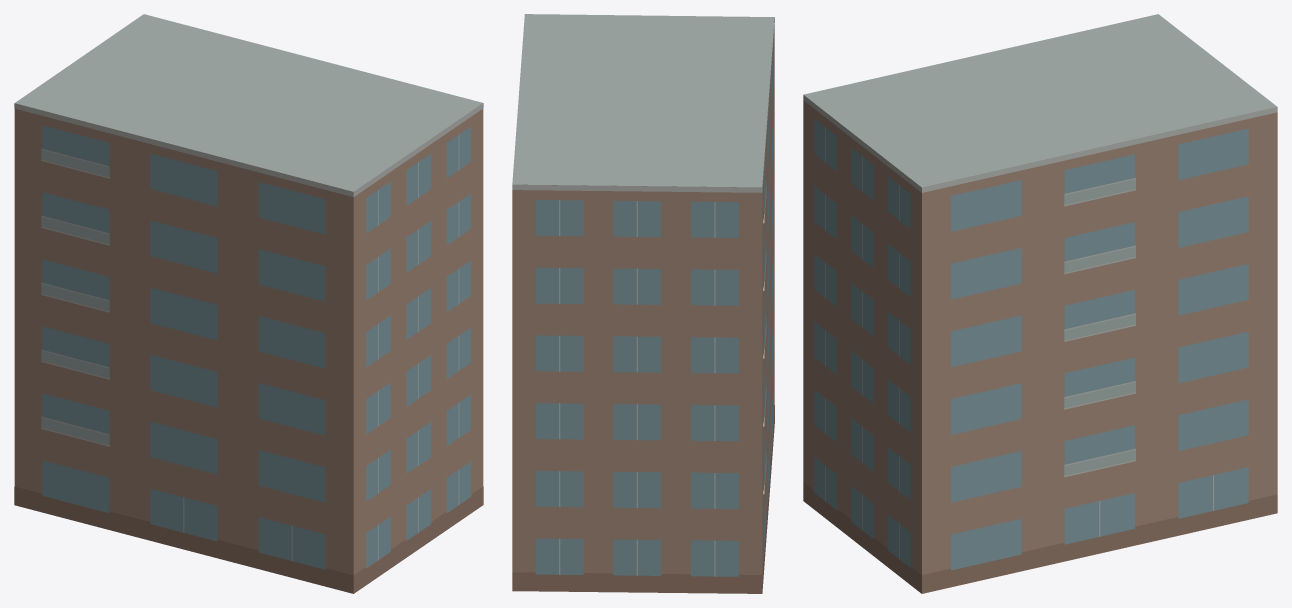
The model's file is survey-upis-32708149.glb.
3 views of the same model, side by side, from view 1: azimuth 30°, elevation 25°; view 2: azimuth 150°, elevation 25°; view 3: azimuth 270°, elevation 25° (orthographic).
Visible parts, largest first — view 1: survey-upis-32708149.tmp; view 2: survey-upis-32708149.tmp; view 3: survey-upis-32708149.tmp.
Part boxes in pixels (x1=…): survey-upis-32708149.tmp: x1=14, y1=14, x2=483, y2=593; survey-upis-32708149.tmp: x1=512, y1=14, x2=774, y2=593; survey-upis-32708149.tmp: x1=803, y1=14, x2=1277, y2=593.
Size of the model in its own units: 16.77 by 18.3 by 19.37.
